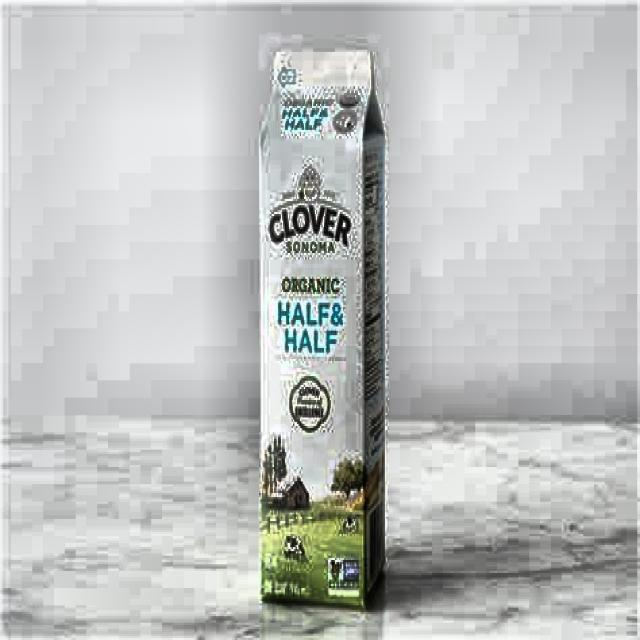cardboard: (256, 45, 386, 610)
